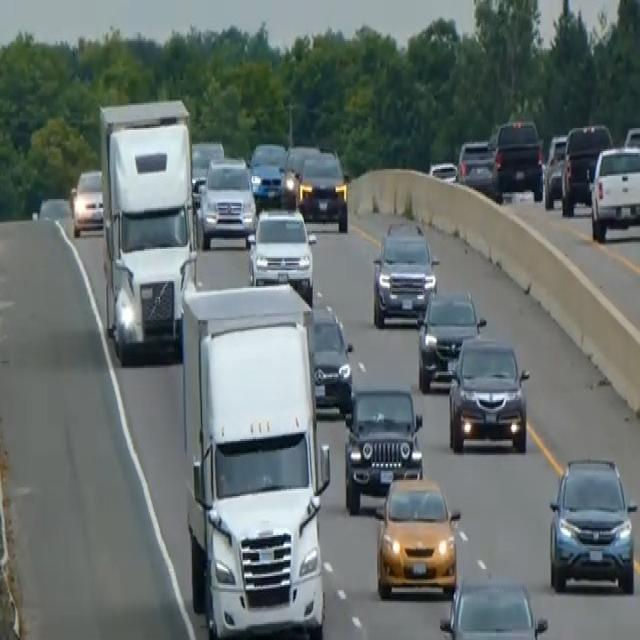car: (547, 453, 637, 594), (374, 469, 460, 599), (342, 382, 424, 514), (447, 334, 530, 454), (416, 286, 485, 393), (371, 219, 438, 327), (438, 574, 548, 638), (248, 205, 316, 302), (197, 153, 256, 245), (307, 302, 353, 412), (589, 142, 639, 242), (560, 121, 612, 215), (492, 115, 544, 201), (297, 146, 348, 231), (248, 139, 289, 206), (282, 140, 320, 207), (70, 167, 104, 237), (457, 137, 498, 195), (543, 132, 568, 208), (190, 137, 224, 192), (37, 194, 73, 236), (428, 158, 458, 183)
lorry: (178, 278, 332, 636), (97, 94, 198, 364)
